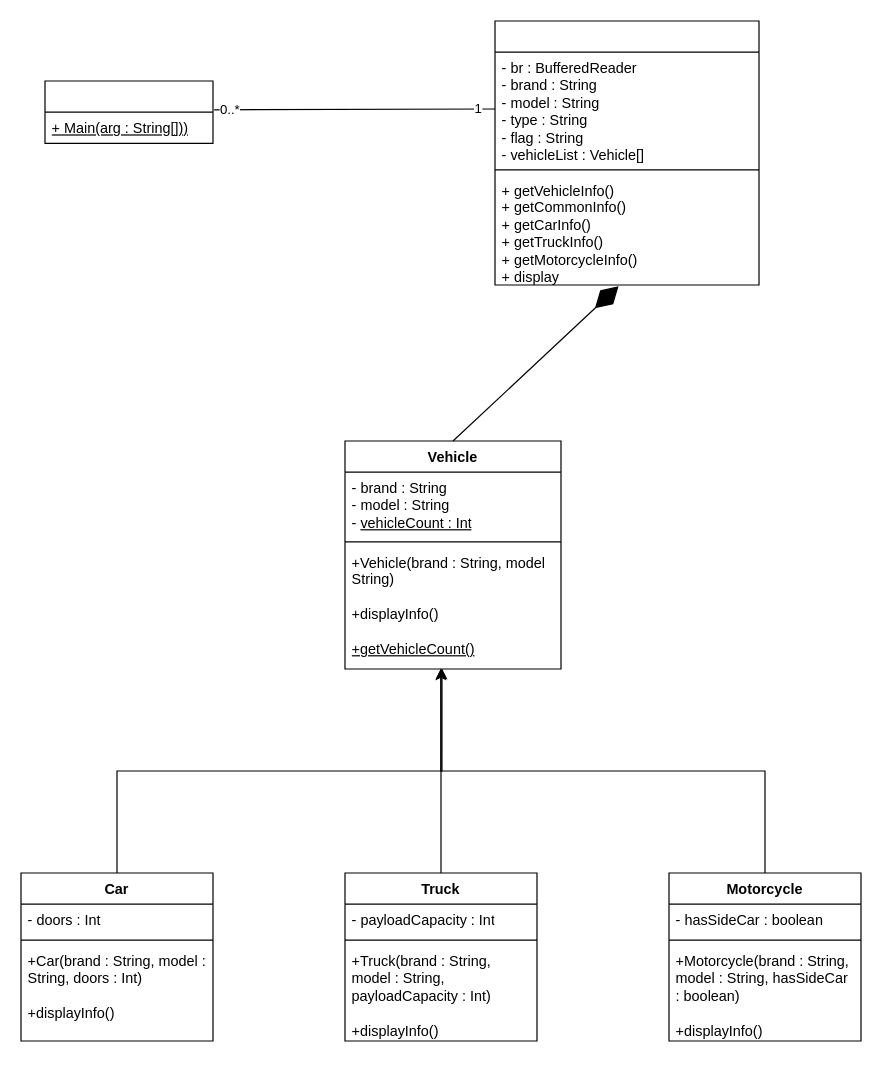
The diagram is 882 pixels wide and 1066 high, and some of its shapes have lost their labels. The shapes that lost their labels are listed below. From the top down, each one's box as (x1, y1, x2, y2) in pixels, then its label:
(44, 80, 213, 143): MainApp
(494, 20, 759, 285): Vehicle Registration Service
